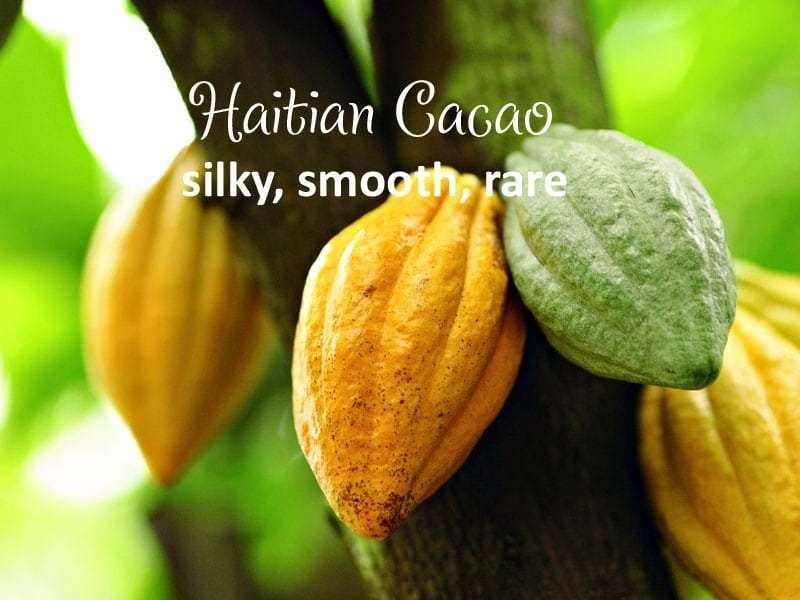Cacaopod: (282, 161, 540, 537), (493, 113, 741, 393)
